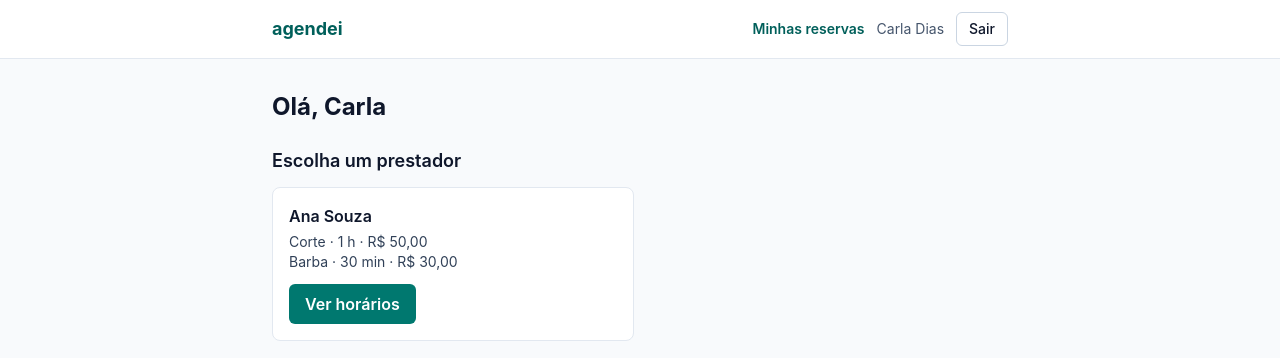
Test: reservar um horário › o início lista os prestadores com os serviços (RF07)
expect the heading "Ana Souza" is shown: met, box [289, 206, 372, 226]
expect the list item "Corte · 1 h · R$ 50,00" is shown: met, box [289, 233, 428, 250]
Click the link named "Ver horários de Ana Souza" at coordinates (352, 304), box [289, 284, 416, 324]
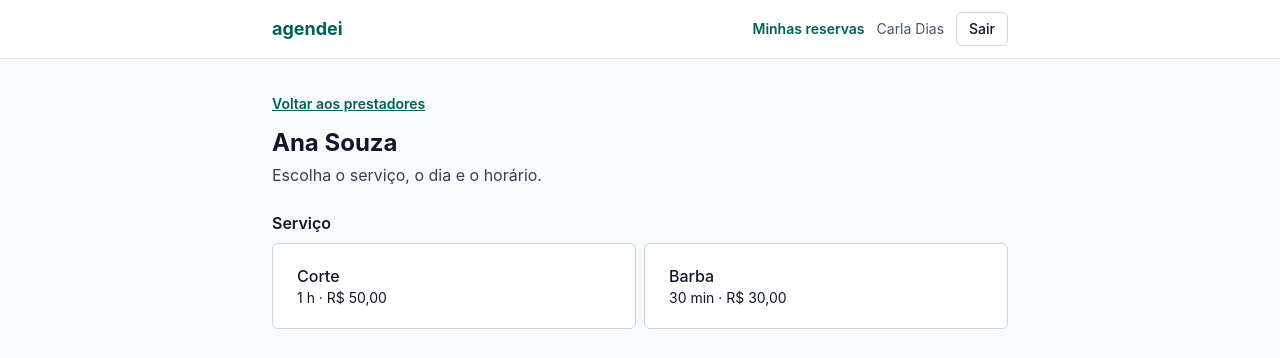
expect the radio button labelled "Corte 1 h · R$ 50,00" is shown: met, box [272, 243, 636, 329]
